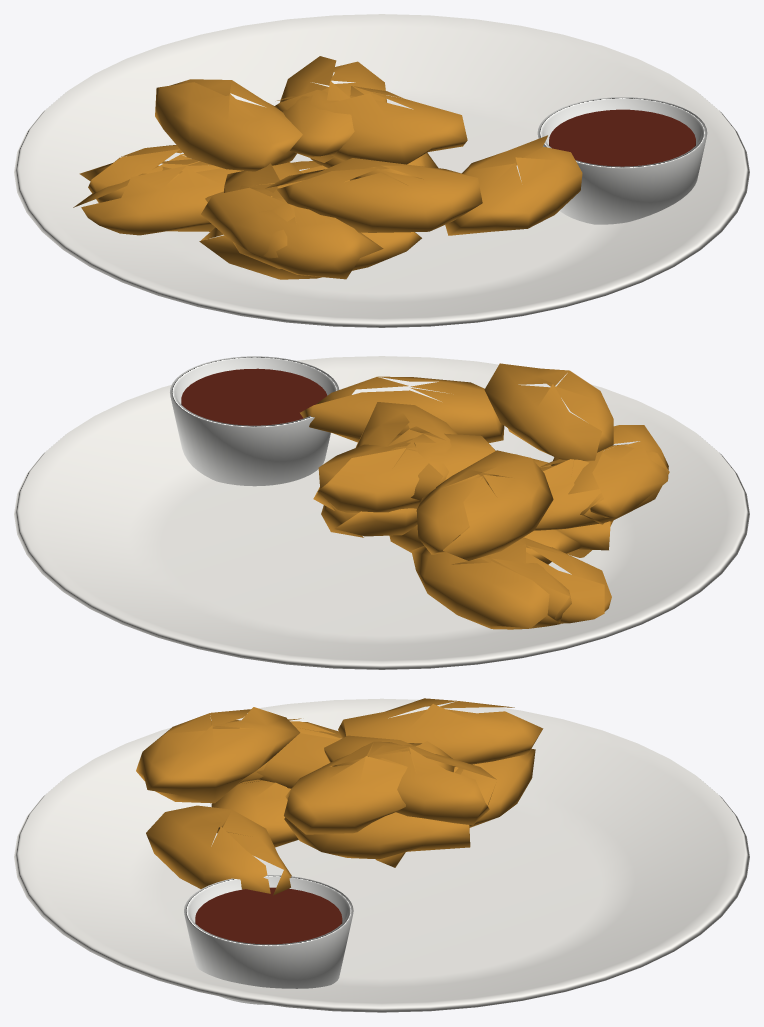
Rendered from isca-frango.glb.
3 renders of one model, top to bottom at view 1: azimuth 30°, elevation 25°; view 2: azimuth 150°, elevation 25°; view 3: azimuth 270°, elevation 25°, orthographic.
Parts seen in each view (by area): view 1: isca-frango; view 2: isca-frango; view 3: isca-frango.
Boxes of the visible parts, box(x1,y1,x2,y2) form: isca-frango: box(14, 14, 749, 327); isca-frango: box(14, 356, 749, 669); isca-frango: box(14, 698, 749, 1012).
Size of the model in its own units: 0.26 by 0.0557 by 0.26.
